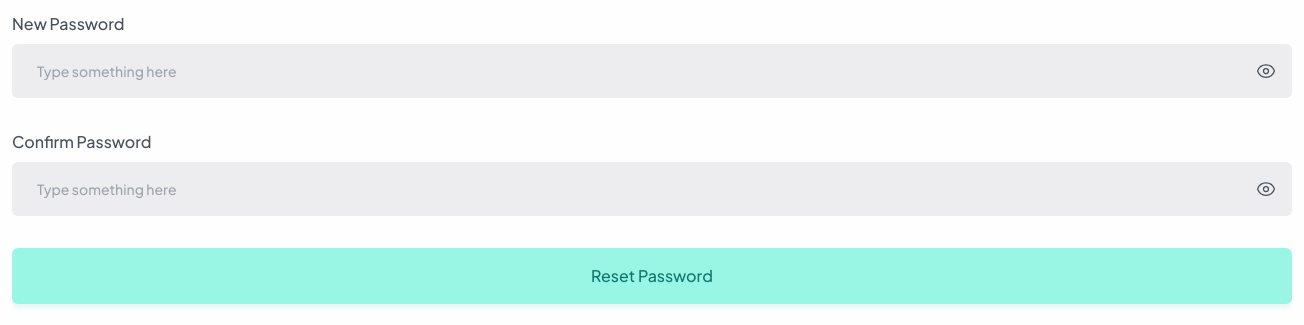
Test: Functionality › should render correct error when passwords do not match
The image size is (1304, 325).
Type "password123" into the password field labelled "New Password" at {"x": 652, "y": 71}, box [12,44,1292,98]
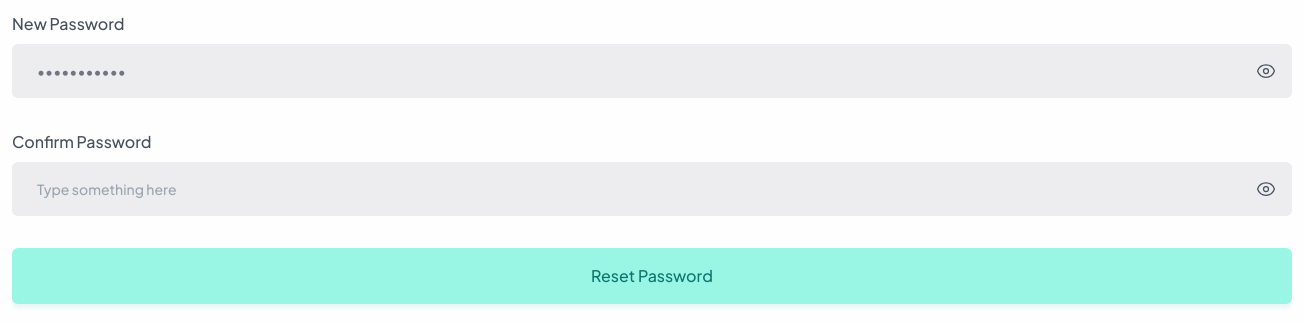
Type "password" into the password field labelled "Confirm Password" at {"x": 652, "y": 189}, box [12,162,1292,216]
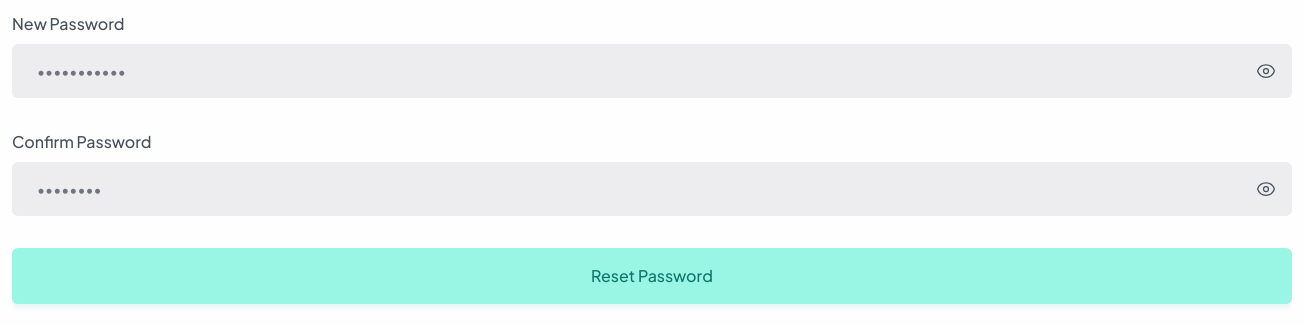
Click the button "Reset Password" at {"x": 652, "y": 276}, box [12,248,1292,304]
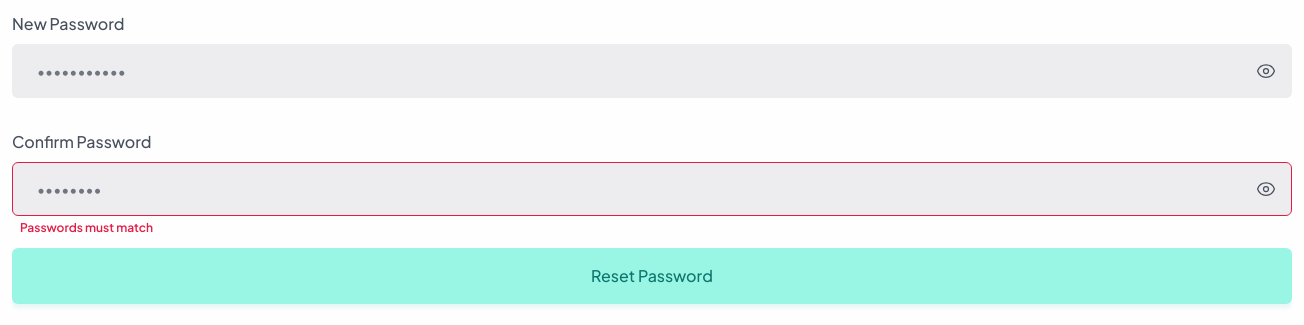
Result: the text "Passwords must match" is shown at [20,220,153,236]
